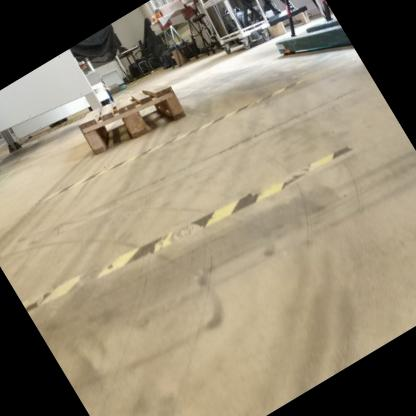BoxFace: (79, 78, 195, 161)
